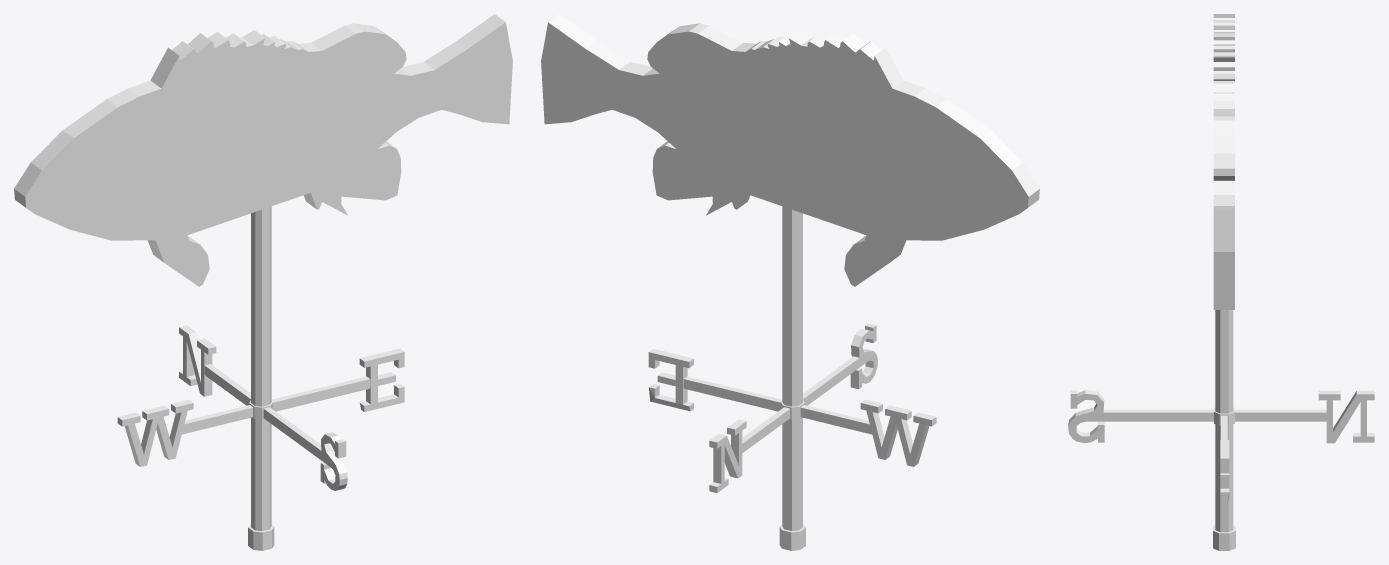
The model's file is Prop_Weathervane_04.glb.
The picture shows the model from 3 angles, left to right: view 1: azimuth 30°, elevation 25°; view 2: azimuth 150°, elevation 25°; view 3: azimuth 270°, elevation 25°; orthographic projection. The views are drawn at different scales.
Parts seen in each view (by area): view 1: Prop_Weathervane_Top_04, Prop_Weathervane_04; view 2: Prop_Weathervane_Top_04, Prop_Weathervane_04; view 3: Prop_Weathervane_04, Prop_Weathervane_Top_04.
Part boxes in pixels (left/top/right/bottom): Prop_Weathervane_Top_04: left=14, top=14, right=512, bottom=286; Prop_Weathervane_04: left=117, top=206, right=404, bottom=550; Prop_Weathervane_Top_04: left=541, top=14, right=1039, bottom=286; Prop_Weathervane_04: left=648, top=206, right=936, bottom=550; Prop_Weathervane_04: left=1068, top=310, right=1374, bottom=550; Prop_Weathervane_Top_04: left=1213, top=14, right=1234, bottom=309.
Size of the model in its own units: 1.01 by 1.03 by 0.5747.
Materials: 1 (1 with a texture image).
